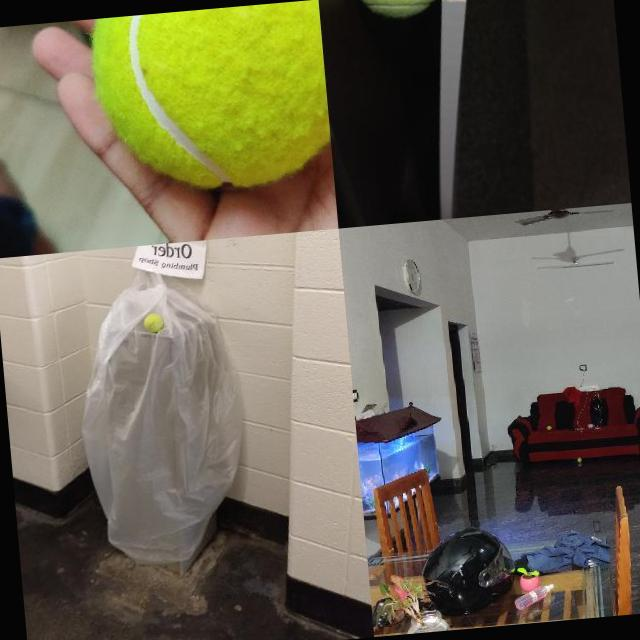Tennis Ball: (90, 0, 333, 197), (350, 0, 452, 23), (142, 312, 164, 334), (546, 426, 551, 430), (578, 457, 582, 461)
